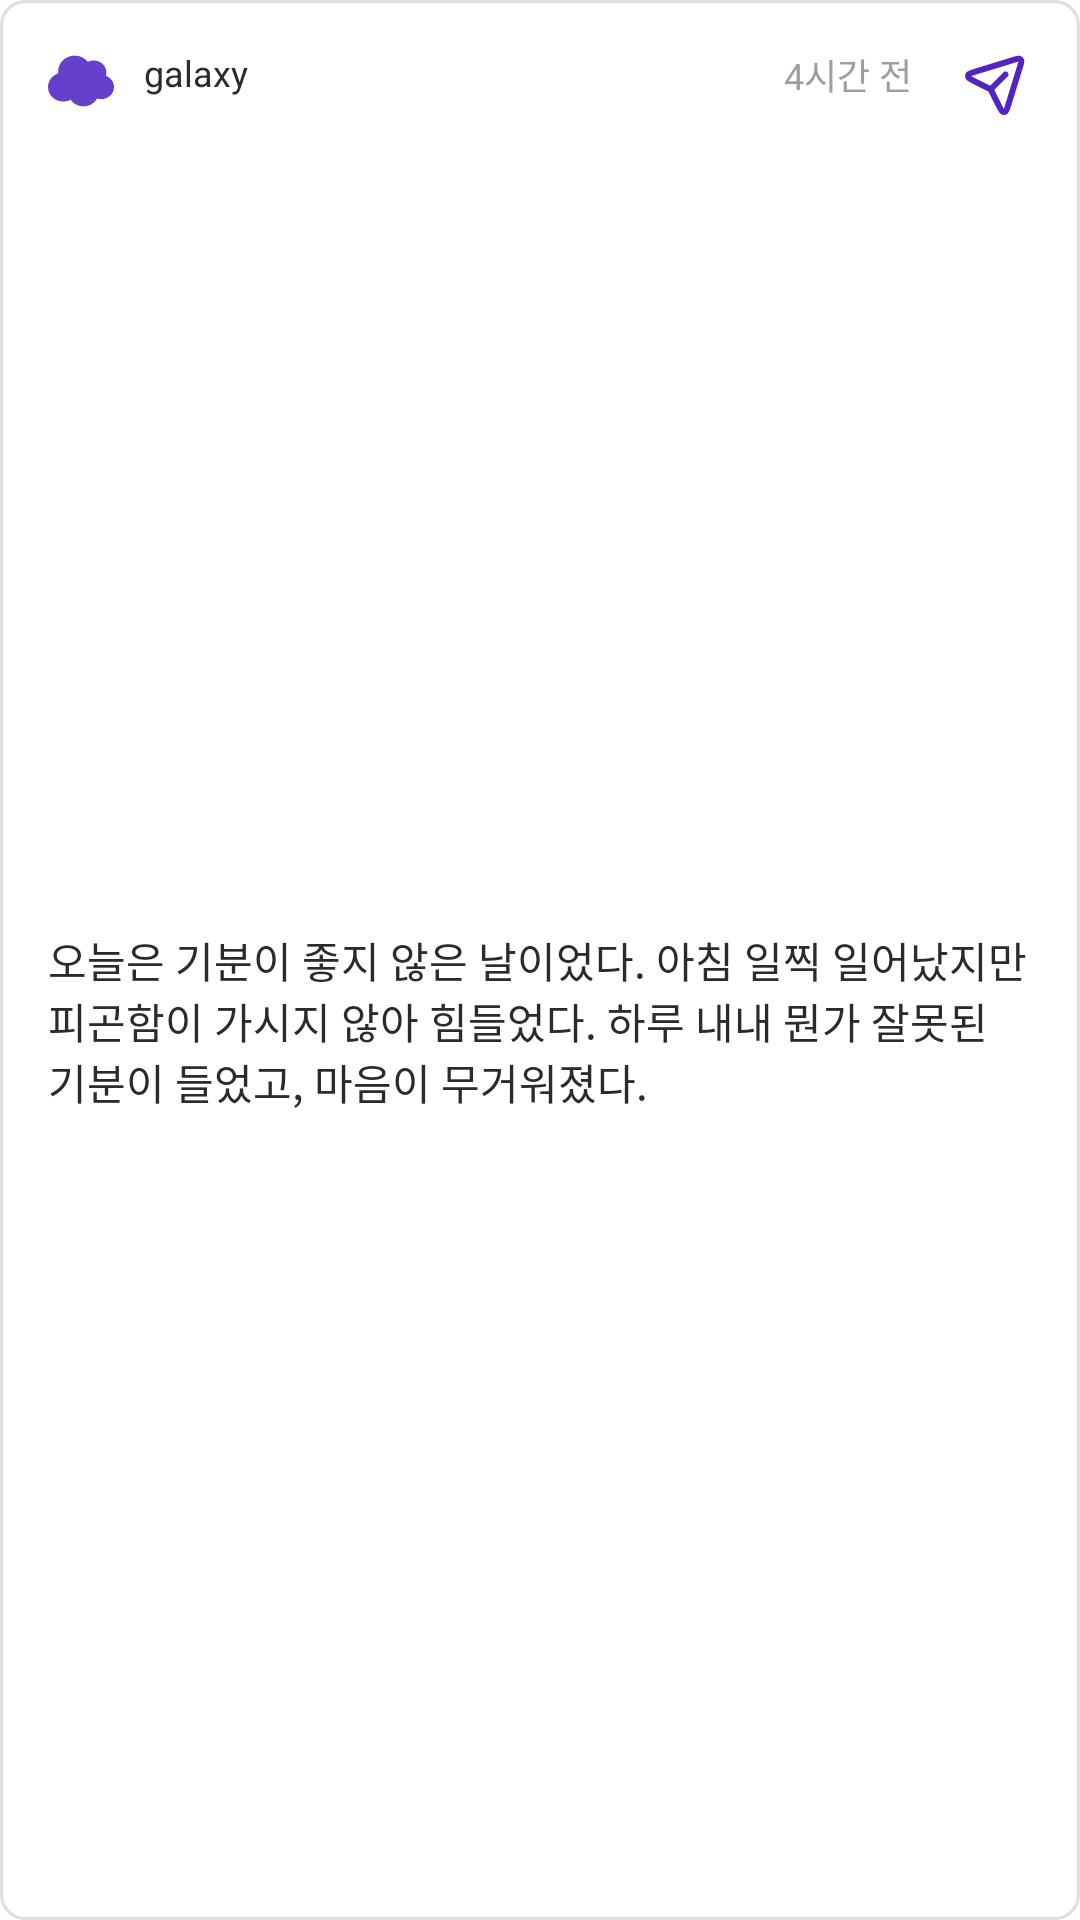

Icon click points for this 1080*1920 phone screenshot, format [x,y]:
cloud: [81,81]
paper plane: [995,85]
